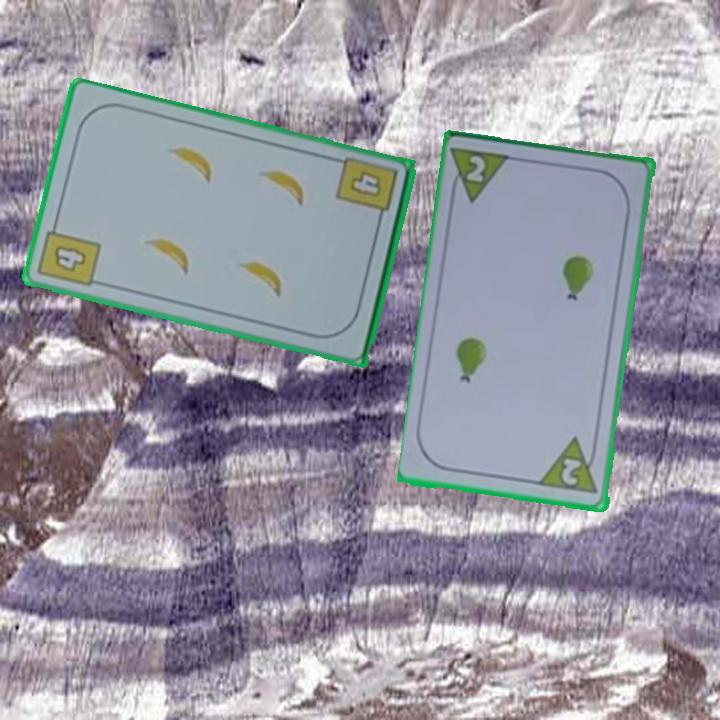2p: (446, 144, 515, 208), (558, 455, 584, 489)
4b: (34, 217, 104, 290), (332, 157, 401, 228)
